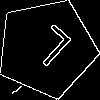L: (21, 23, 74, 76)
